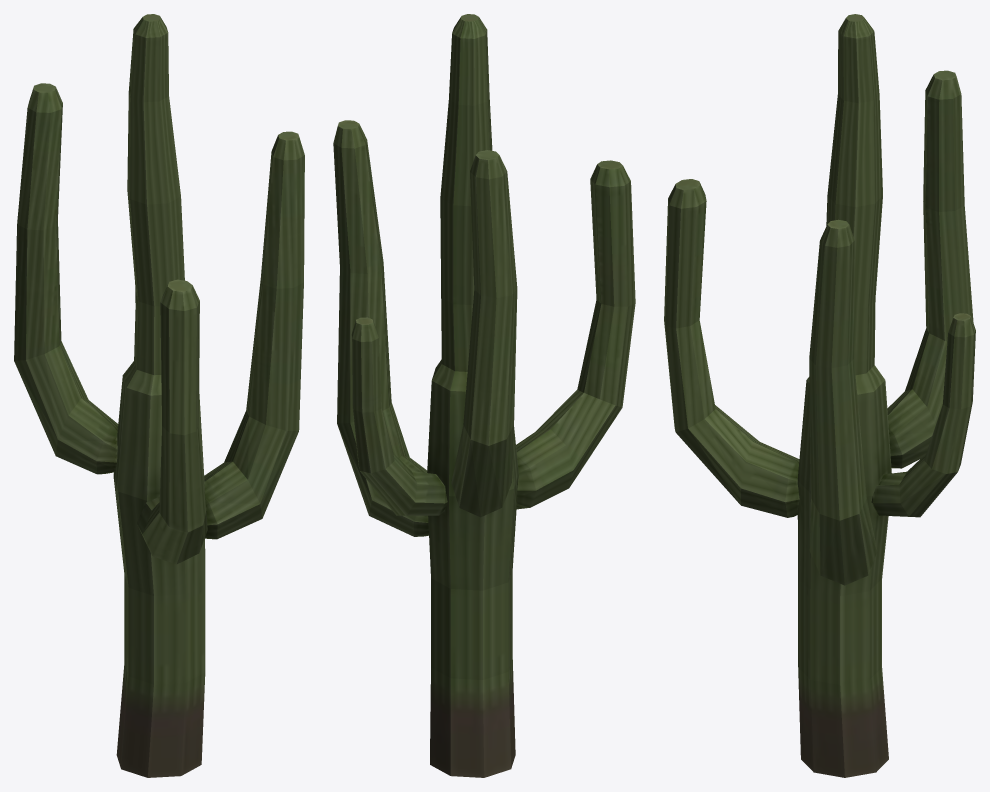
Rendered from cactus1.glb.
3 renders of one model, left to right at view 1: azimuth 30°, elevation 25°; view 2: azimuth 150°, elevation 25°; view 3: azimuth 270°, elevation 25°, orthographic.
Visible parts, largest first — view 1: Saguaro_mesh; view 2: Saguaro_mesh; view 3: Saguaro_mesh.
Part boxes in pixels (x1,y1,x2,y2): Saguaro_mesh: (14,14,304,777); Saguaro_mesh: (333,14,635,777); Saguaro_mesh: (664,14,975,777).
Size of the model in its own units: 6.67 by 20.42 by 7.8.
1 material, 1 textured.
